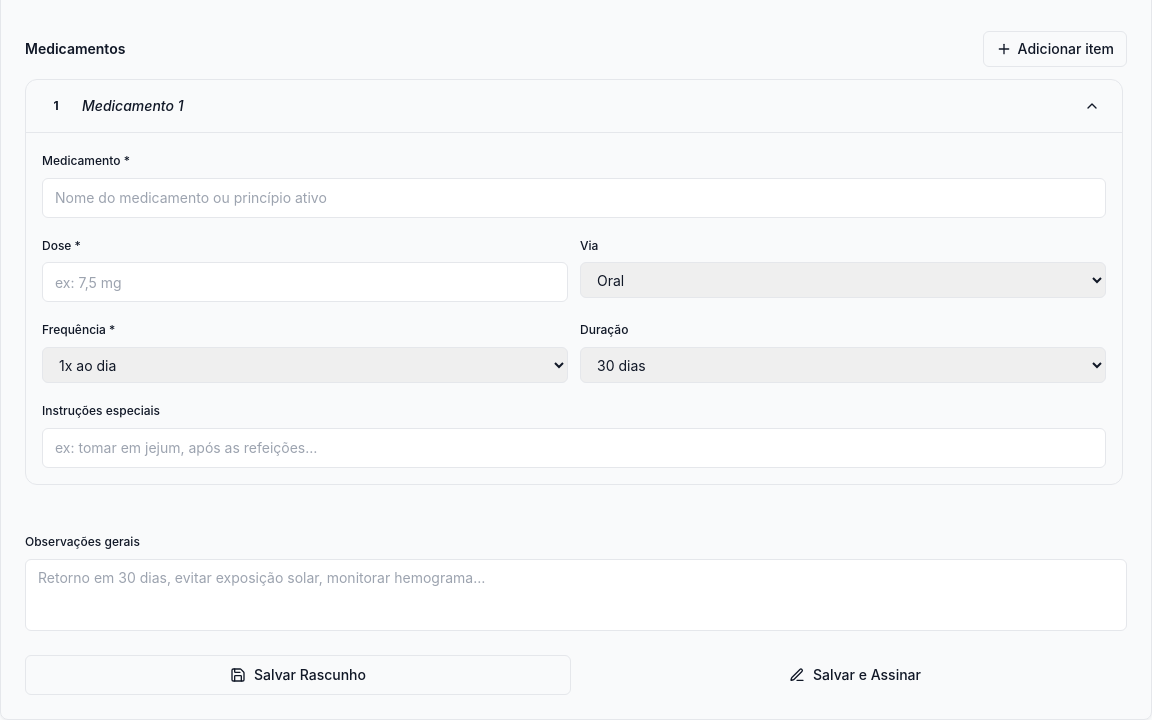
Test: PrescriptionComposer › blocks save with inline errors when drug, dose or frequency are missing
Later steps or results of the test are not shown.
(page scrolled)
Click the button "Salvar Rascunho" at (298, 675), box [25,655,571,695]
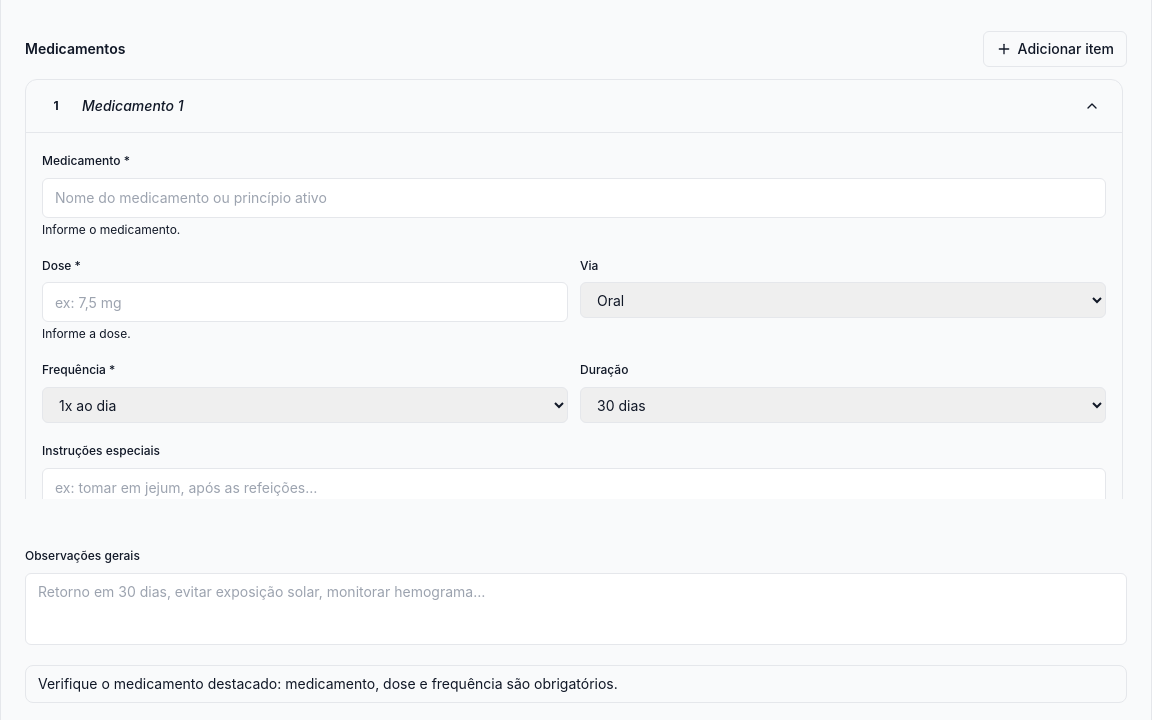
Expected: the text "Informe o medicamento." is shown, [42,222,180,237]
Expected: the text "Informe a dose." is shown, [42,326,131,341]
Note: Fill only the drug — dose error must remain
Type "Metotrexato" into the field with placeholder "Nome do medicamento ou princípio ativo" at (574, 198), box [42,178,1106,218]
(page scrolled)
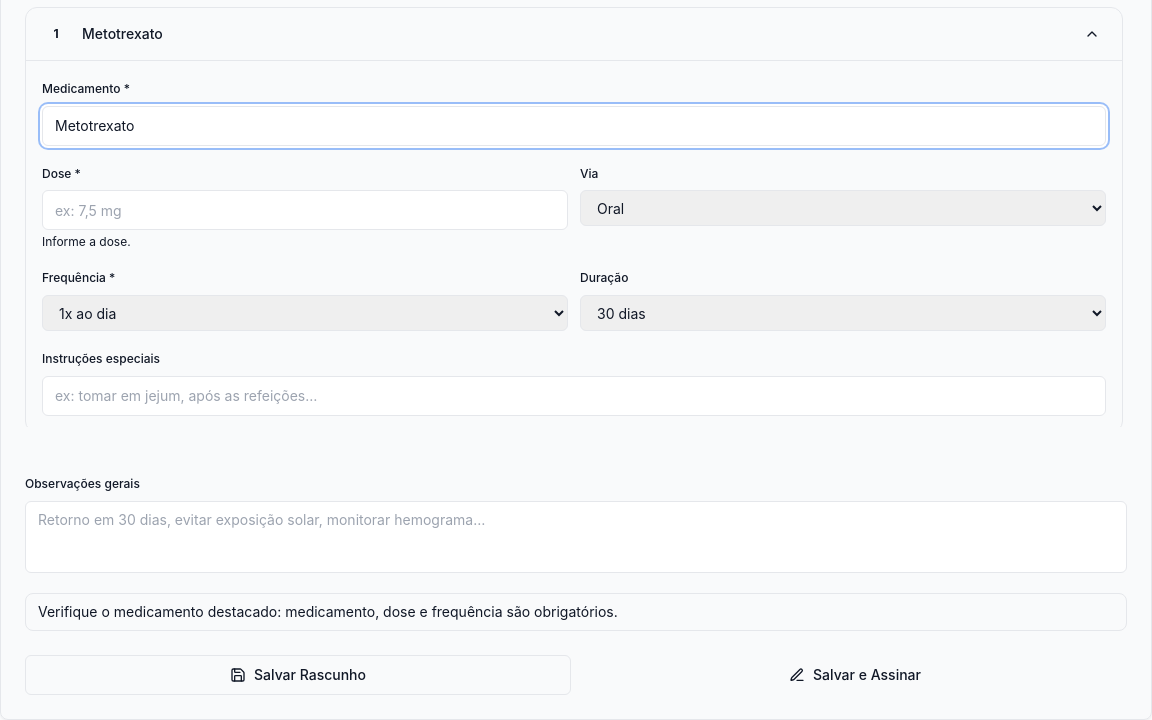
Click the button "Salvar Rascunho" at (298, 675), box [25,655,571,695]
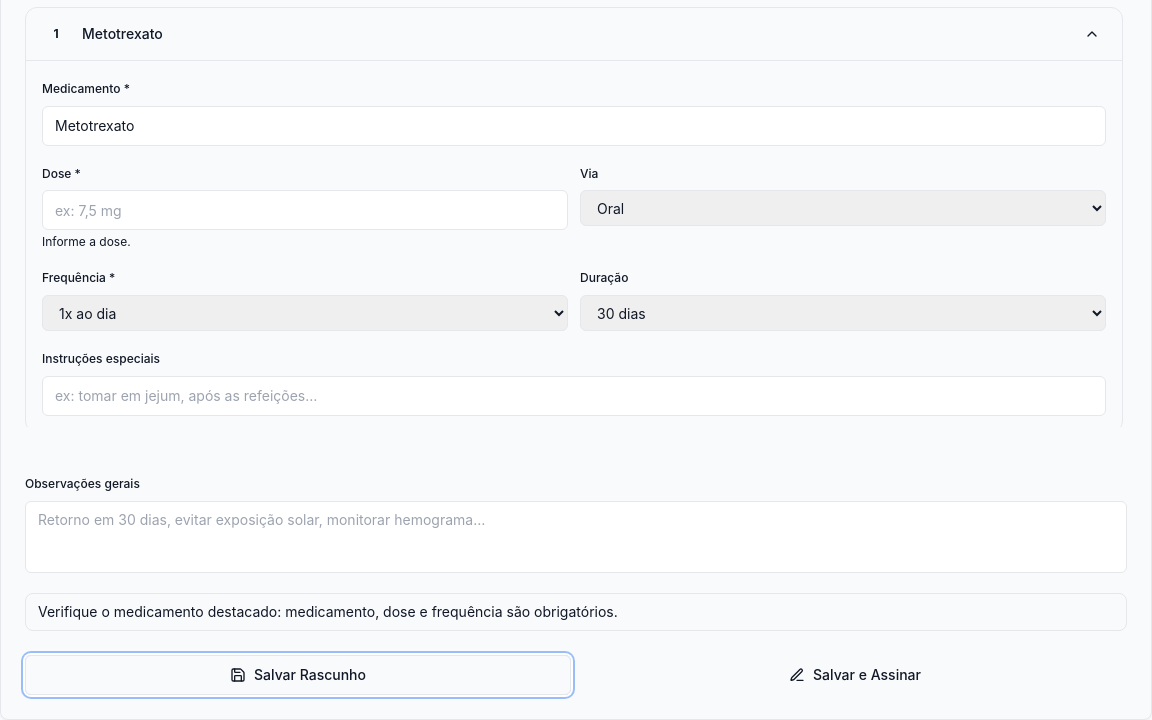
Expected: the text "Informe o medicamento." is not shown
Expected: the text "Informe a dose." is shown, [42,234,131,249]
